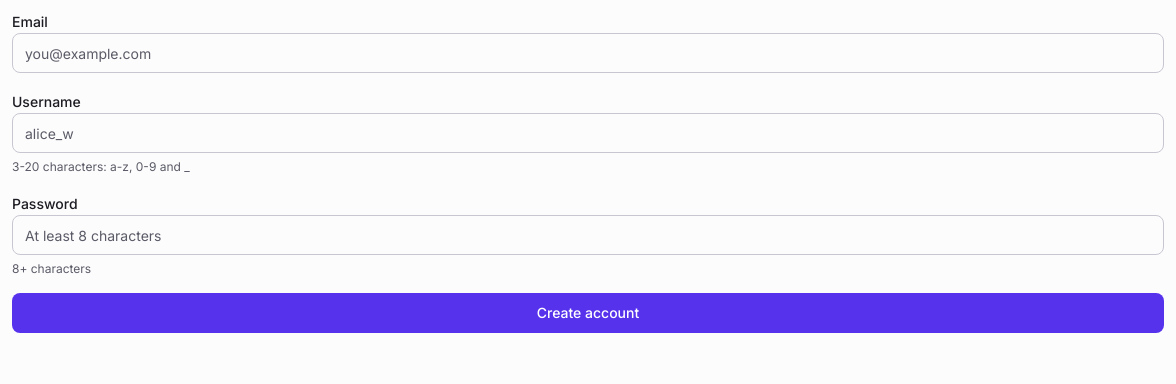
Test case: RegisterForm › shows the hints and replaces them with field errors on invalid input
Expected: the text "3-20 characters: a-z, 0-9 and _" is shown, [12,159,190,174]
Type "nope" into the field labelled "Email" at (588, 53), box [12,33,1164,73]
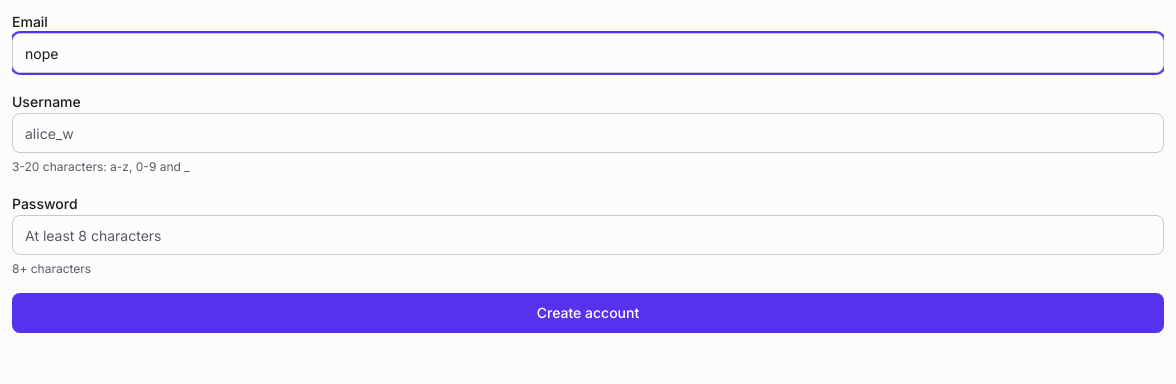
Type "No Spaces" into the field labelled "Username" at (588, 133), box [12,113,1164,153]
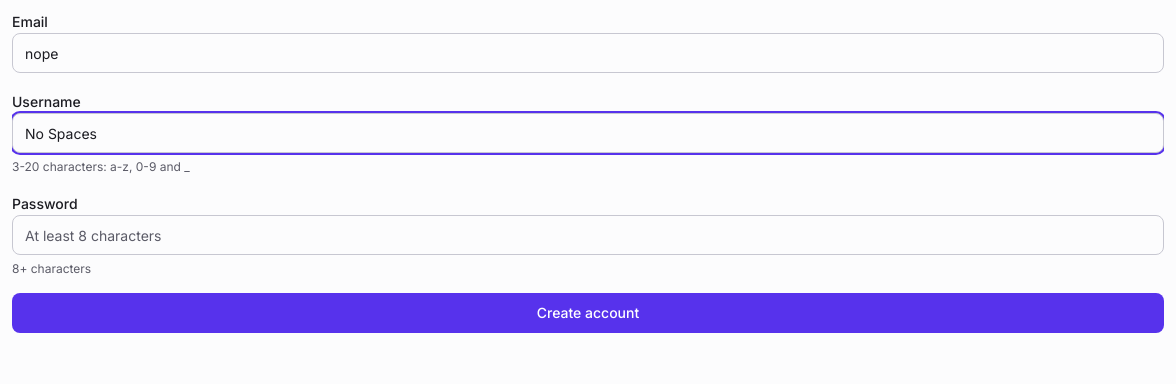
Type "short" into the password field labelled "Password" at (588, 235), box [12,215,1164,255]
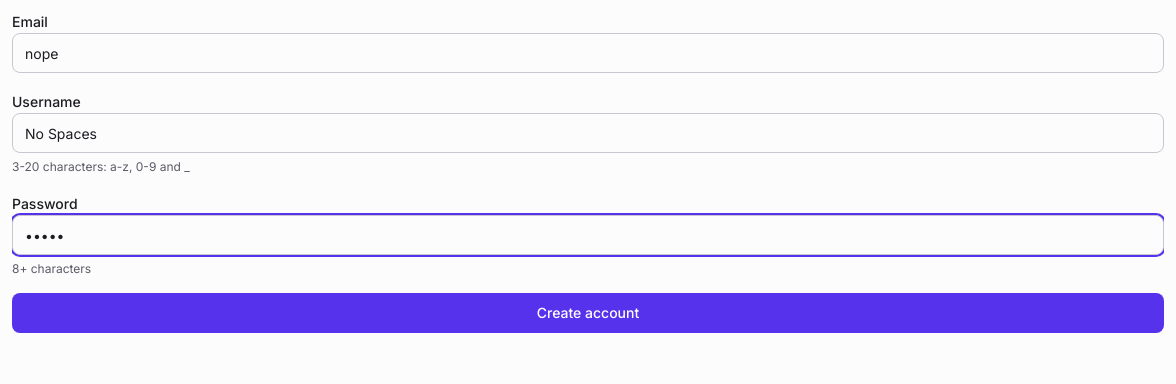
Click the button "Create account" at (588, 313), box [12,293,1164,333]
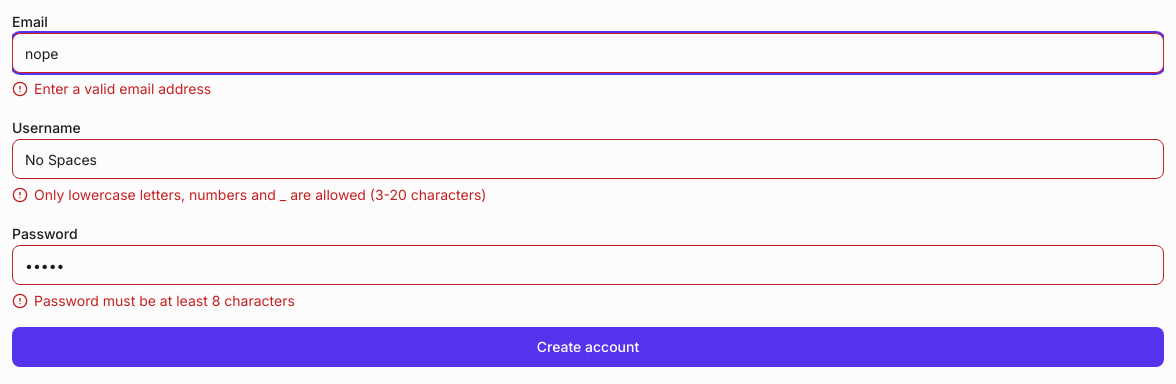
Expected: the text "Enter a valid email address" is shown, [34,79,211,99]
Expected: the text "Only lowercase letters, numbers and _" is shown, [34,186,486,203]
Expected: the text "Password must be at least 8 characters" is shown, [34,291,295,311]
